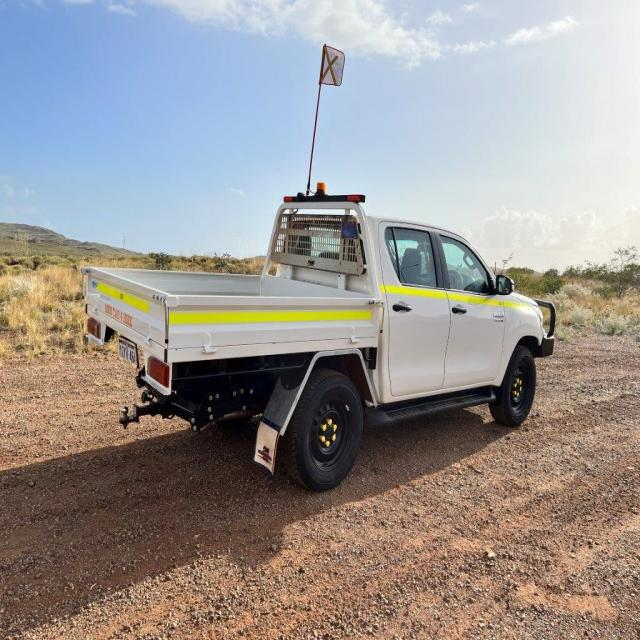light_vehicle: (69, 39, 568, 477)
